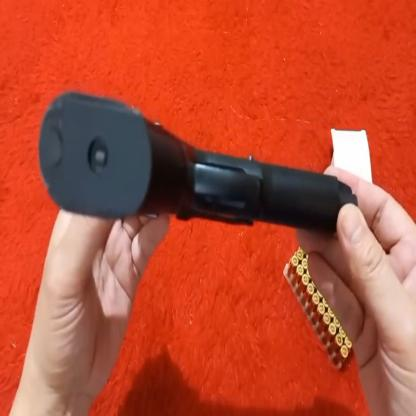handgun: (38, 80, 359, 248)
